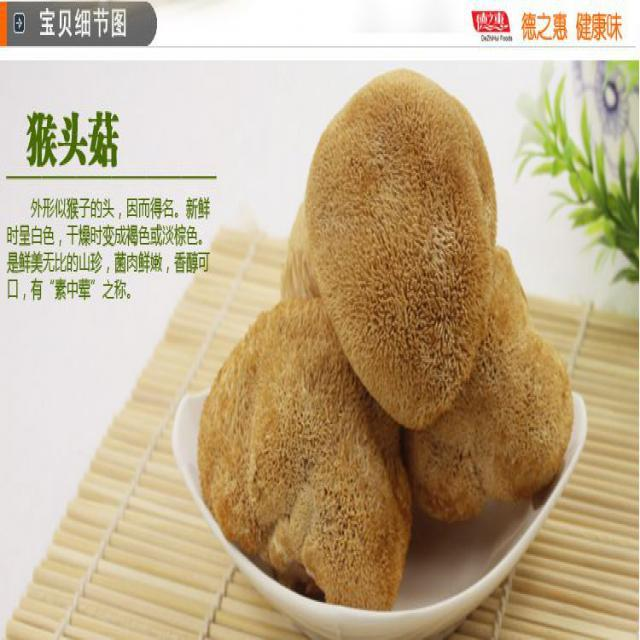Hericium erinaceus: (307, 70, 498, 427), (200, 298, 414, 611), (410, 254, 571, 510)
